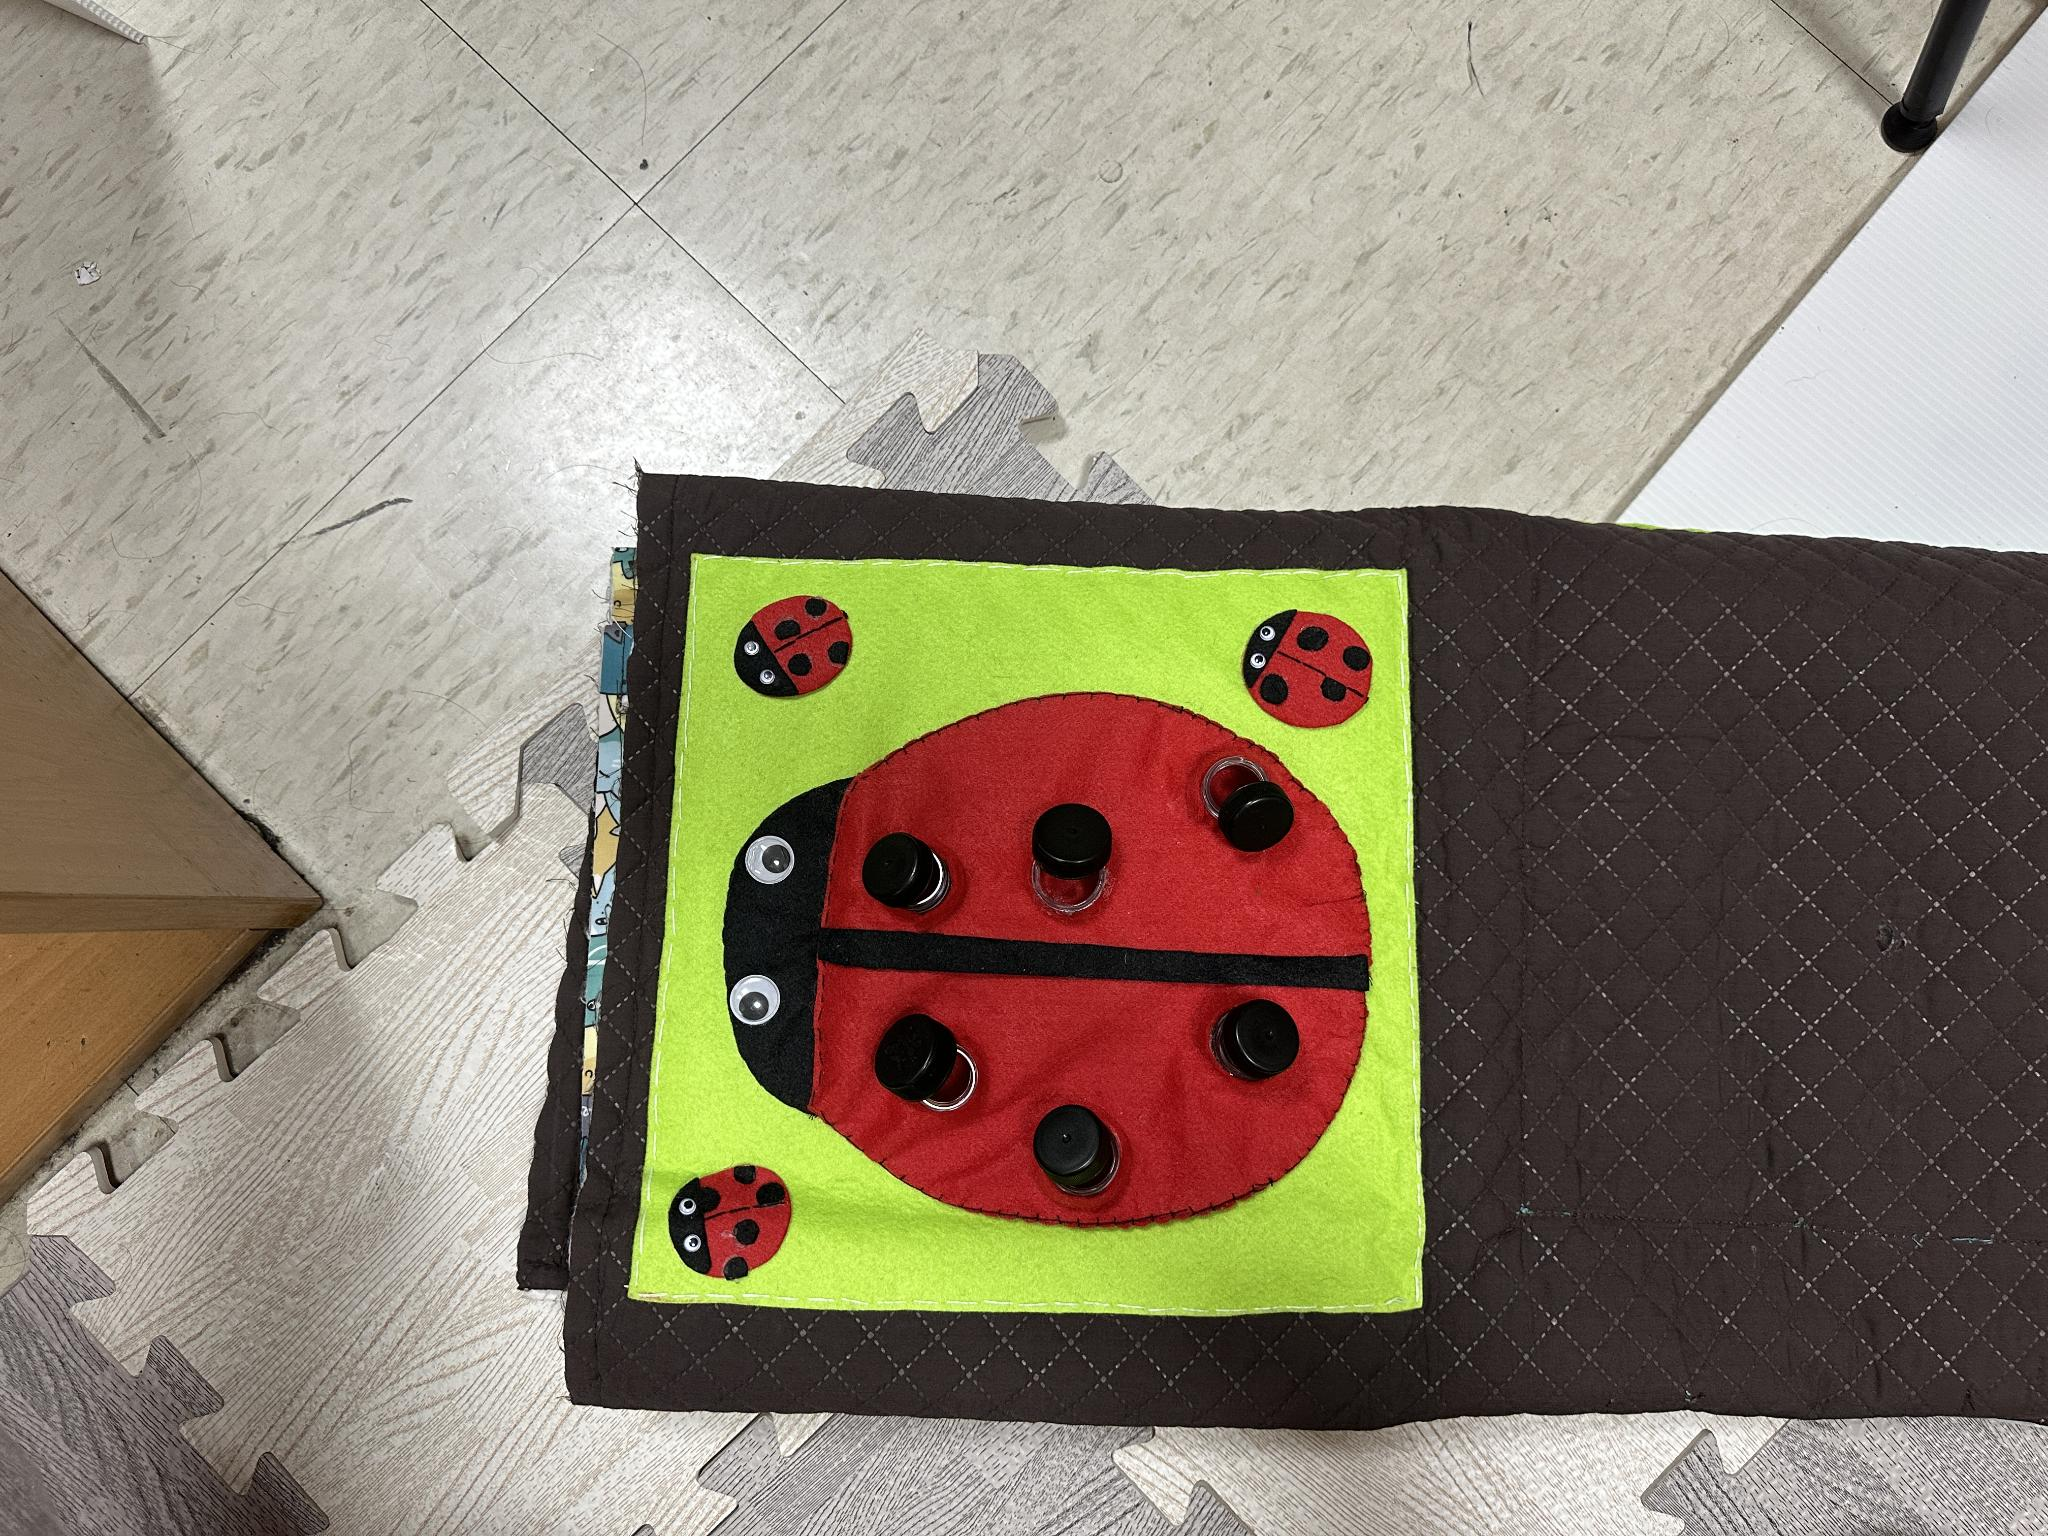cap_ng: (1008, 1096, 1153, 1212), (1014, 799, 1126, 931), (872, 1007, 993, 1123), (1188, 744, 1303, 865), (1198, 991, 1309, 1092), (861, 823, 963, 928)
